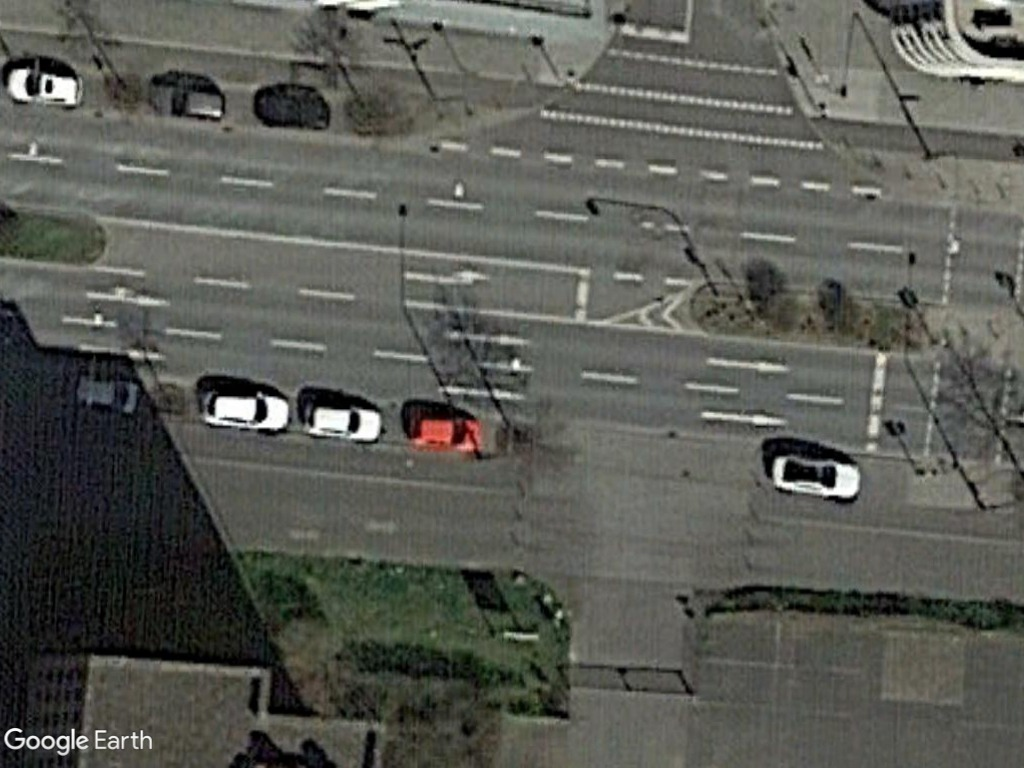car: (763, 447, 866, 504), (195, 388, 294, 434), (0, 63, 90, 111), (298, 396, 386, 445), (403, 409, 486, 455)
